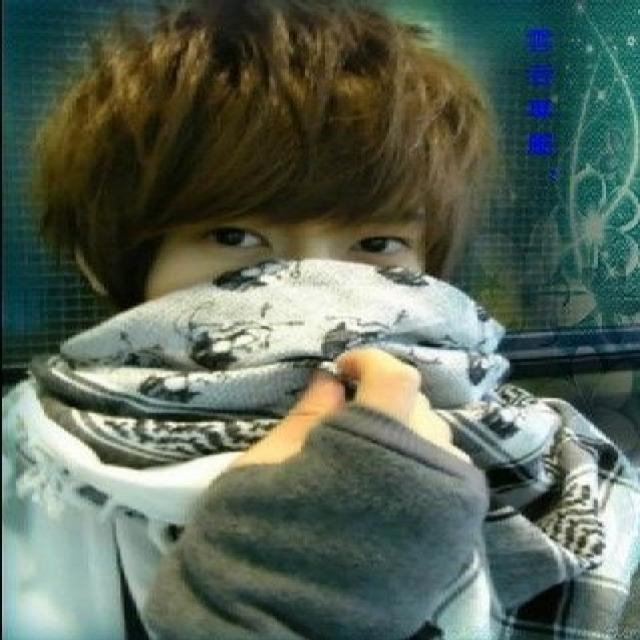mask: (140, 98, 438, 470)
